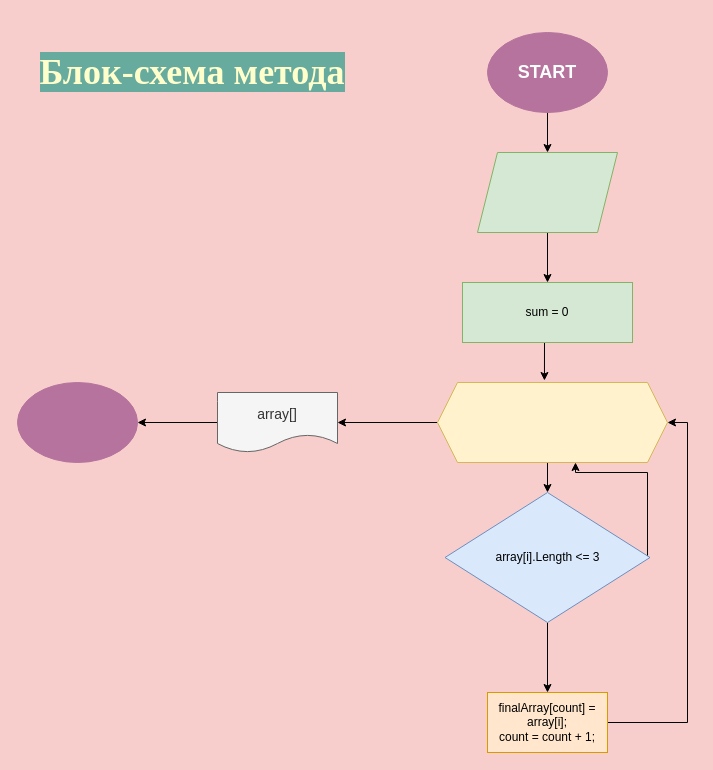
Some shapes in this 713 by 770 pixel diagram are drawn without their labels. The box of each missing label's shape, as (x1, y1, x2, y2) in pixels:
int i = 0; i < array.Length; i++: (436, 382, 668, 462)
string[] array, string[] finalArray: (476, 152, 618, 232)
the end: (16, 382, 138, 462)
